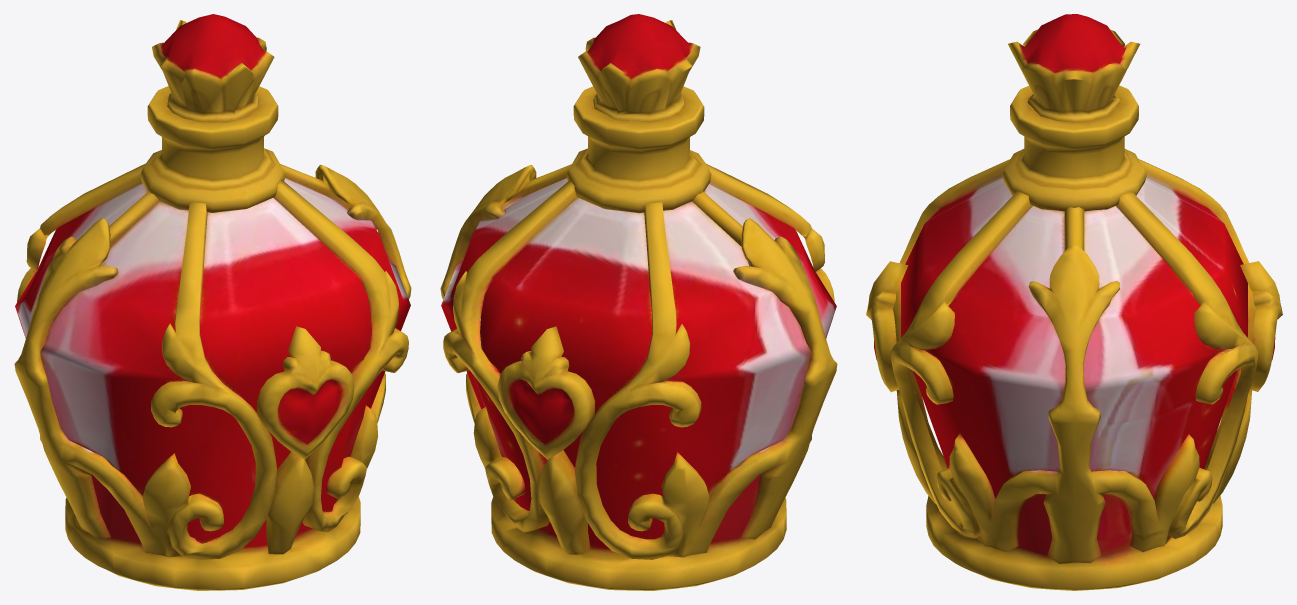
Rendered from supreme_healing_potion.glb.
3 renders of one model, left to right at view 1: azimuth 30°, elevation 25°; view 2: azimuth 150°, elevation 25°; view 3: azimuth 270°, elevation 25°, orthographic.
Parts seen in each view (by area): view 1: supreme_healing_potion; view 2: supreme_healing_potion; view 3: supreme_healing_potion.
Part boxes in pixels (left/top/right/bottom): supreme_healing_potion: left=14, top=14, right=411, bottom=590; supreme_healing_potion: left=440, top=14, right=837, bottom=590; supreme_healing_potion: left=866, top=14, right=1282, bottom=590.
Size of the model in its own units: 0.252 by 0.33 by 0.241.
Materials: 1 (1 with a texture image).
